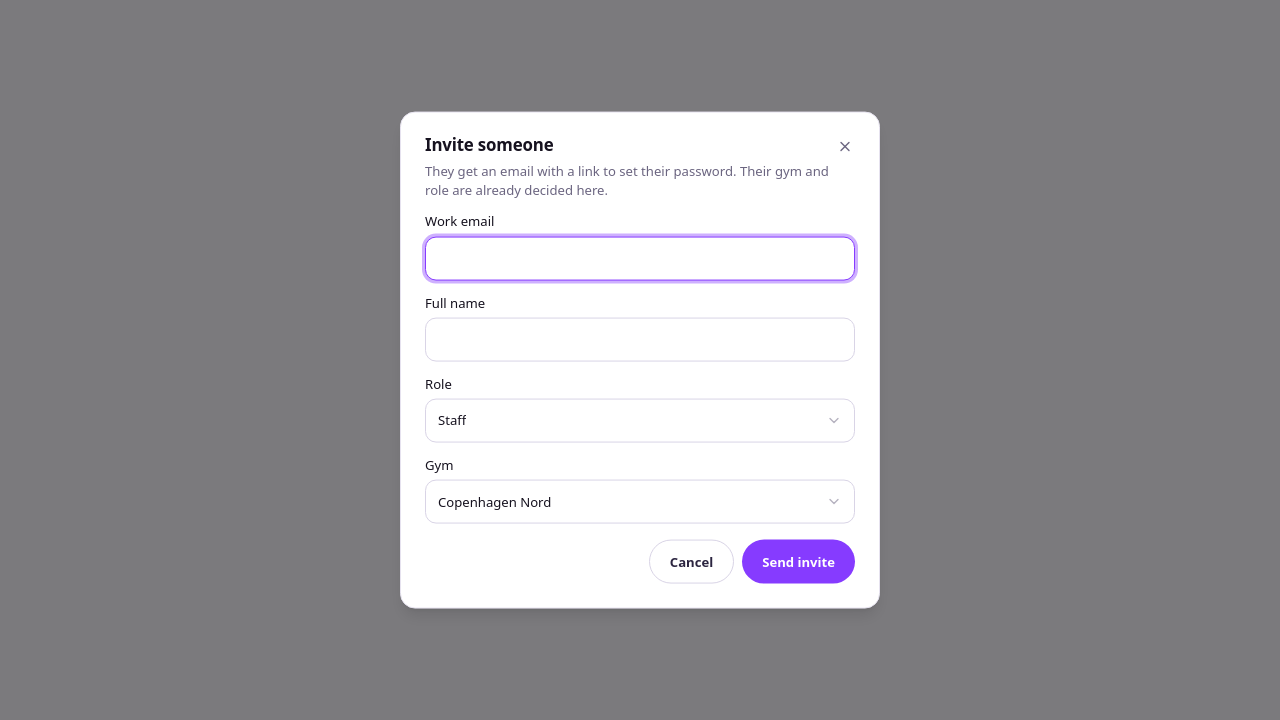
Test: InviteDialog › offers a manager staff only, and no company-wide admin
This screenshot has width=1280, height=720.
Click the dropdown named "Role" at (452, 420), box [425,398,855,442]
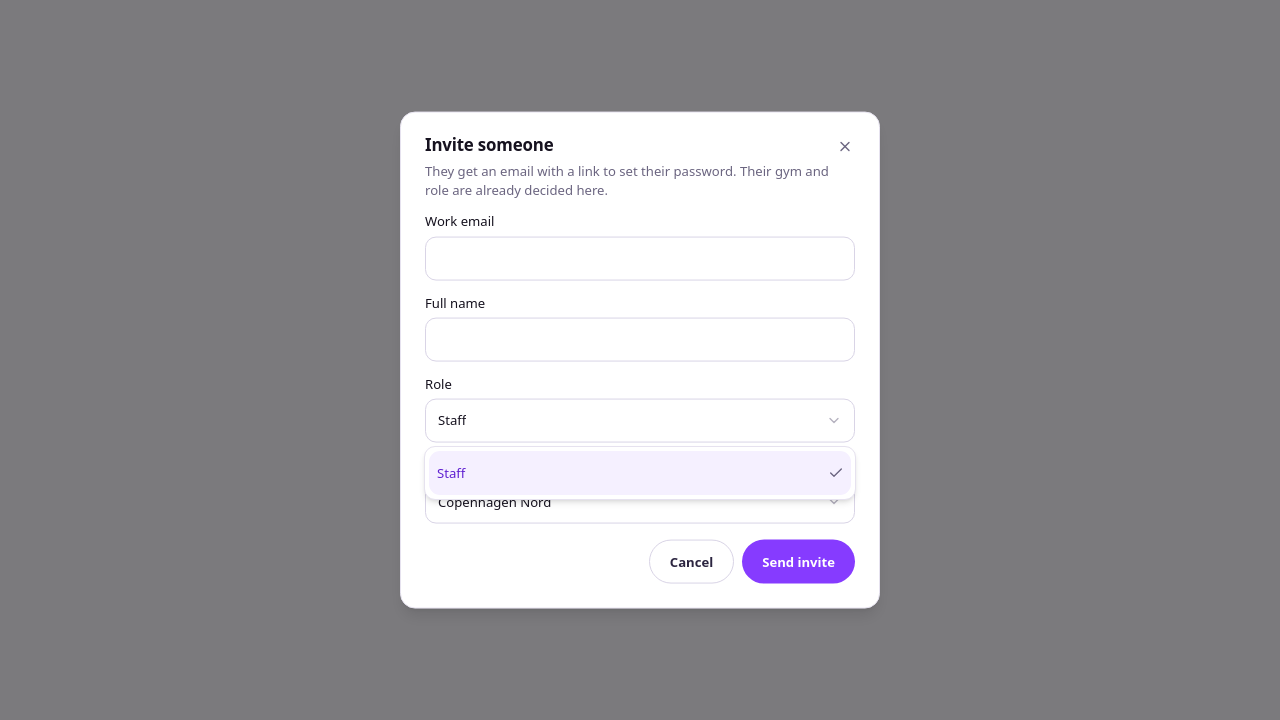
Expected: the option "Staff" is shown, [429,451,851,495]
